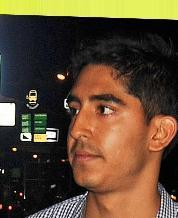face: (66, 94, 124, 169)
